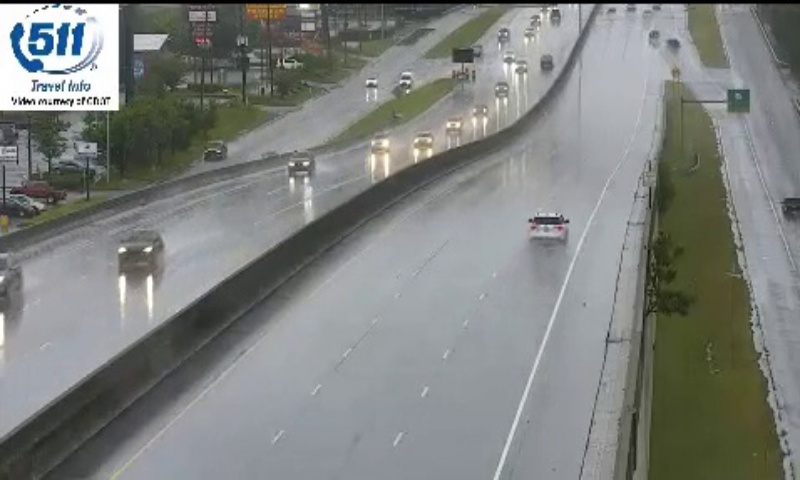car: (527, 211, 569, 243)
